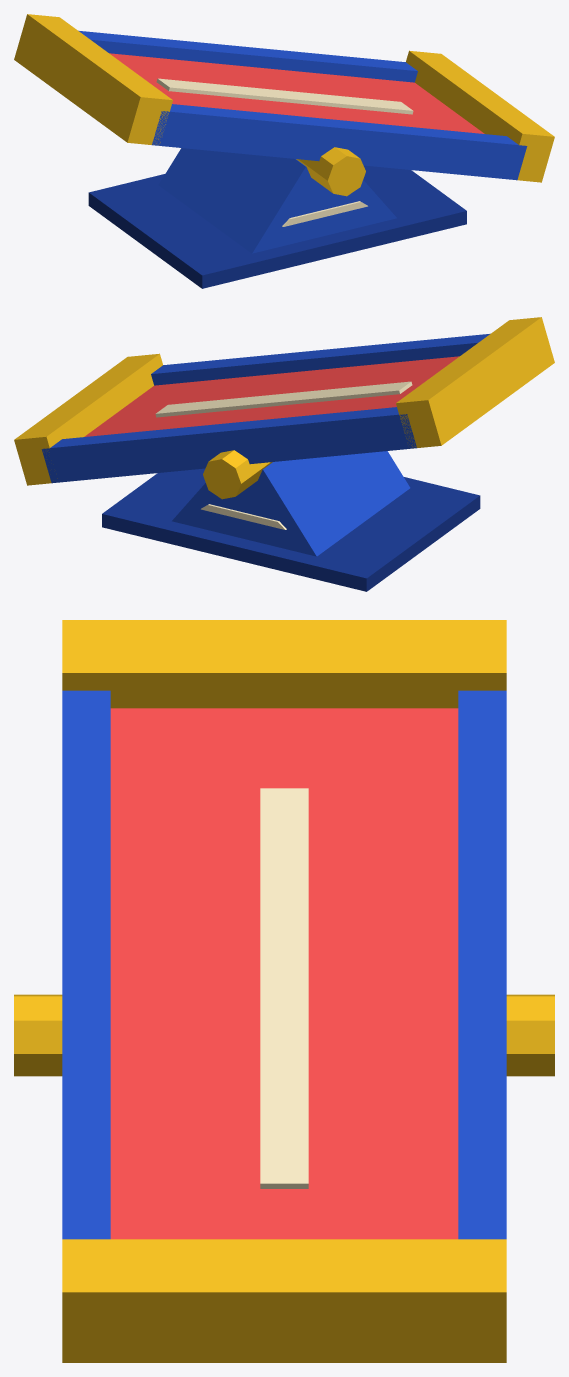
File: seesaw.glb
3 views of the same model, one above another, from view 1: azimuth 30°, elevation 25°; view 2: azimuth 150°, elevation 25°; view 3: azimuth 270°, elevation 25° (orthographic). The views are drawn at different scales.
Visible parts, largest first — view 1: SeesawPlank, SeesawFulcrum; view 2: SeesawPlank, SeesawFulcrum; view 3: SeesawPlank, SeesawFulcrum.
Part boxes in pixels (left/top/right/bottom): SeesawPlank: left=14, top=14, right=554, bottom=182; SeesawFulcrum: left=88, top=147, right=466, bottom=288; SeesawPlank: left=14, top=317, right=554, bottom=485; SeesawFulcrum: left=102, top=450, right=480, bottom=591; SeesawPlank: left=62, top=620, right=506, bottom=1362; SeesawFulcrum: left=14, top=994, right=554, bottom=1076.
Size of the model in its own units: 1 by 0.4627 by 0.56.
Materials: 1 (1 with a texture image).
